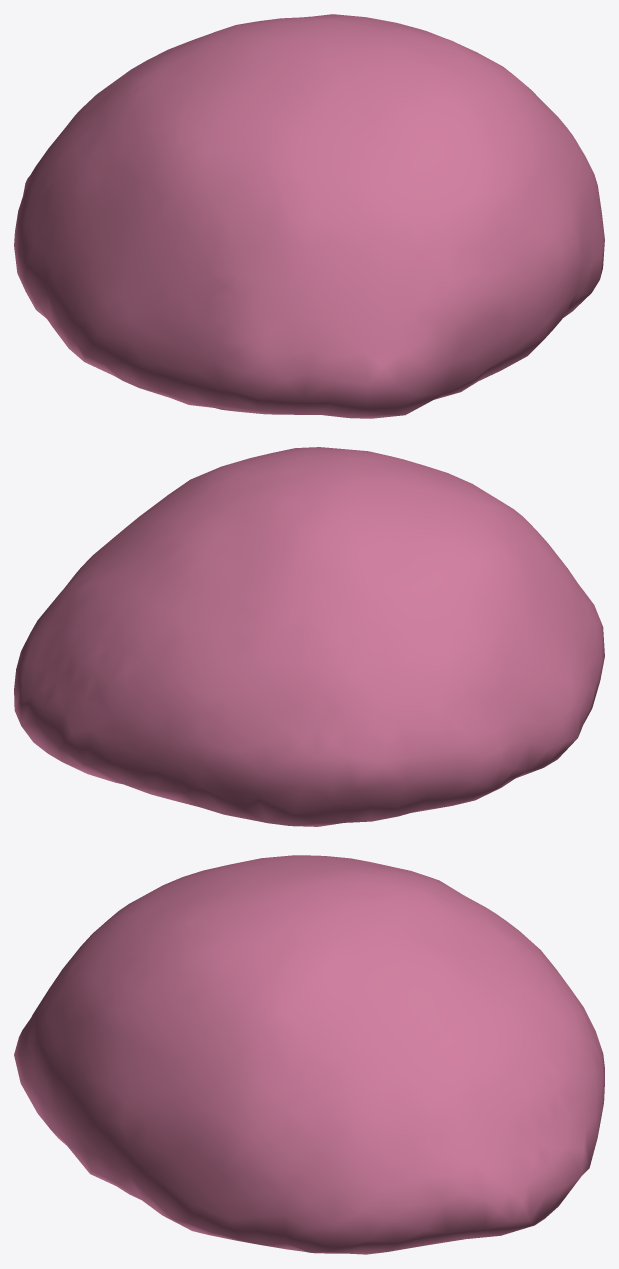
Rendered from Dango.obj.
3 renders of one model, top to bottom at view 1: azimuth 30°, elevation 25°; view 2: azimuth 150°, elevation 25°; view 3: azimuth 270°, elevation 25°, orthographic. The views are drawn at different scales.
Parts seen in each view (by area): view 1: Sphere; view 2: Sphere; view 3: Sphere.
Part boxes in pixels (bbox=[...]): Sphere: bbox=[14, 14, 604, 418]; Sphere: bbox=[14, 447, 604, 826]; Sphere: bbox=[14, 855, 604, 1254].
Bounding box in the file's own units: 1.72 × 0.8251 × 1.7.
